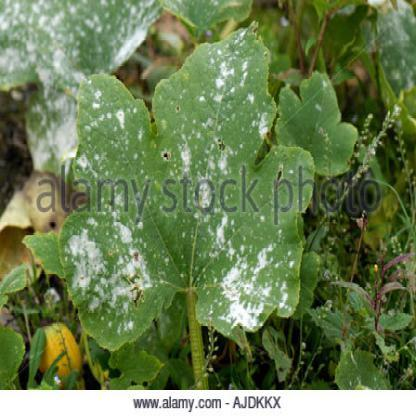Squash Powdery mildew leaf: (56, 2, 318, 352)
